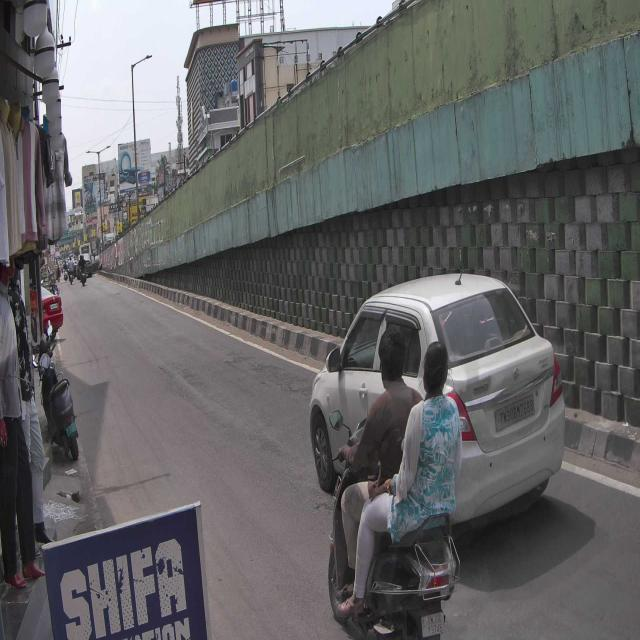double_rider: (325, 322, 462, 640)
